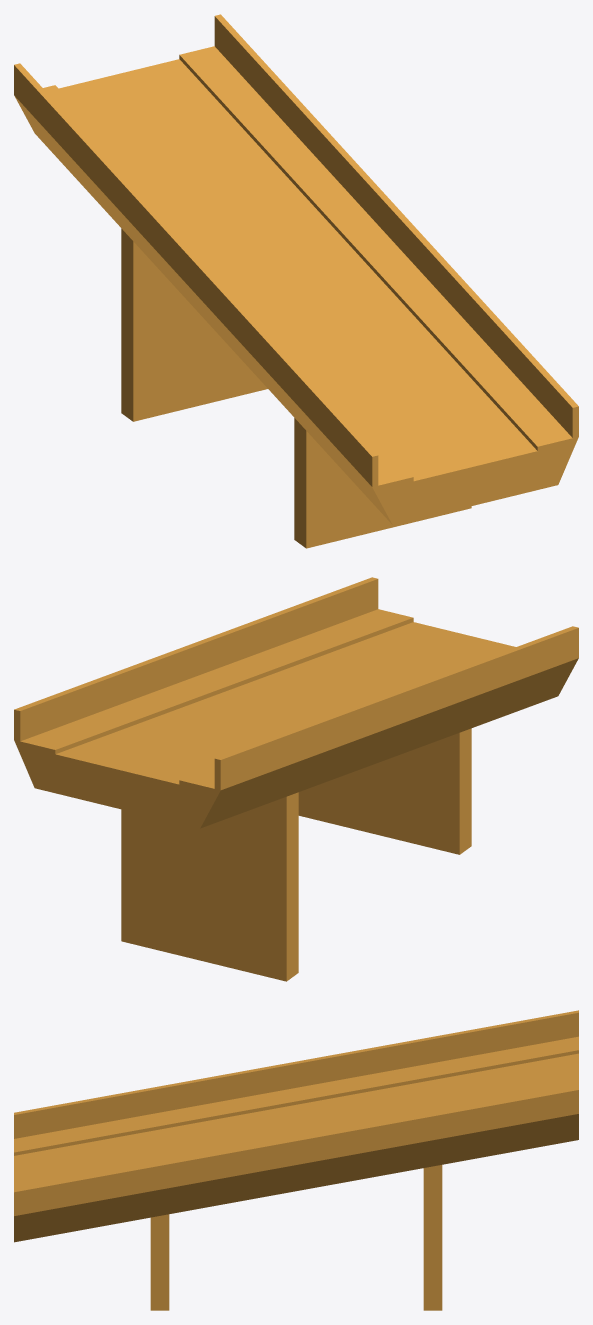
File: tiles-bridge-road-hill.glb
3 views of the same model, one above another, from view 1: azimuth 30°, elevation 25°; view 2: azimuth 150°, elevation 25°; view 3: azimuth 270°, elevation 25° (orthographic). The views are drawn at different scales.
Parts seen in each view (by area): view 1: bridge-road-hill; view 2: bridge-road-hill; view 3: bridge-road-hill.
Part boxes in pixels (left/top/right/bottom): bridge-road-hill: left=14, top=14, right=578, bottom=548; bridge-road-hill: left=14, top=577, right=578, bottom=981; bridge-road-hill: left=14, top=1010, right=578, bottom=1310.
Size of the model in its own units: 10 by 13.4 by 30.
